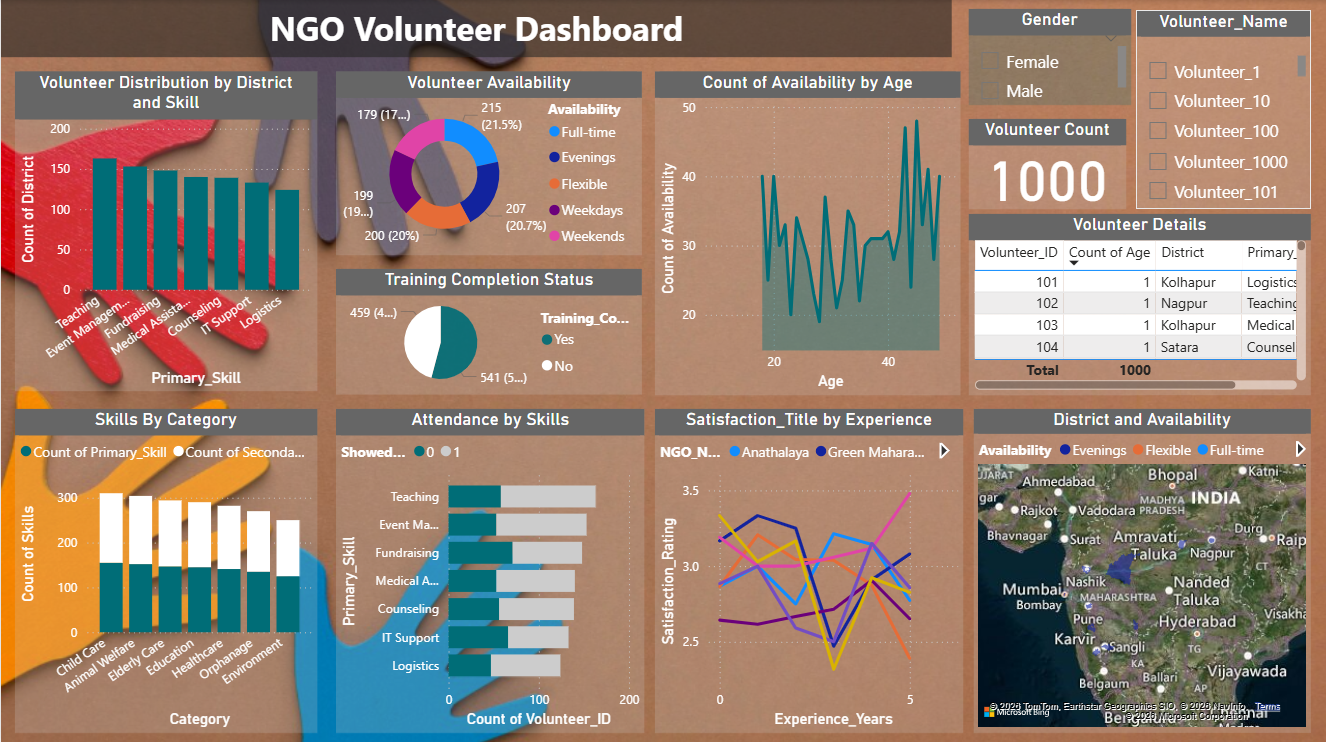

The page's visual inventory and layout, read from the dashboard file:
{"tool":"powerbi","page":{"name":"Page 1","canvas":[1280,720],"ordinal":0},"visuals":[{"type":"textbox","box":[0,0,918,55.6],"z":0},{"type":"slicer","title":"Gender","fields":{"Values":["ngodataset.Gender"]},"box":[933.8,8.4,156.8,92.9],"z":1000},{"type":"columnChart","title":"Skills By Category","fields":{"Category":["ngodataset.Category"],"Y":["CountNonNull(ngodataset.Primary_Skill)","CountNonNull(ngodataset.Secondary_Skill)"]},"box":[13.3,394.5,292,312.5],"z":2000},{"type":"areaChart","fields":{"Category":["ngodataset.Age"],"Y":["CountNonNull(ngodataset.Availability)"]},"box":[631,68.8,295.6,312.5],"z":3000},{"type":"donutChart","title":"Volunteer Availability","fields":{"Category":["ngodataset.Availability"],"Y":["CountNonNull(ngodataset.Volunteer_ID)"]},"box":[323.3,68.8,295.6,177.3],"z":4000},{"type":"columnChart","title":"Volunteer  Distribution by District and Skill","fields":{"Category":["ngodataset.Primary_Skill"],"Y":["CountNonNull(ngodataset.District)"]},"box":[13.3,68.8,292,308.8],"z":5000},{"type":"barChart","title":"Attendance by Skills","fields":{"Category":["ngodataset.Primary_Skill"],"Series":["ngodataset.Showed_Up"],"Y":["CountNonNull(ngodataset.Volunteer_ID)"]},"box":[323.3,394.5,298,312.5],"z":6000},{"type":"filledMap","fields":{"Category":["ngodataset.District"],"Series":["ngodataset.Availability"]},"box":[938.6,394.5,325.7,312.5],"z":7000},{"type":"pieChart","title":"Training  Completion Status","fields":{"Category":["ngodataset.Training_Completed"],"Y":["CountNonNull(ngodataset.Volunteer_ID)"]},"box":[323.3,259.4,295.6,121.9],"z":8000},{"type":"lineChart","title":"Satisfaction_Title by Experience","fields":{"Y":["Avg(ngodataset.Satisfaction_Rating)"],"Series":["ngodataset.NGO_Name"],"Category":["ngodataset.Experience_Years"]},"box":[631,394.5,298,312.5],"z":9000},{"type":"tableEx","title":"Volunteer Details","fields":{"Values":["ngodataset.Volunteer_ID","CountNonNull(ngodataset.Age)","ngodataset.District","ngodataset.Primary_Skill"]},"box":[933.8,206.3,330.6,174.9],"z":10000},{"type":"slicer","title":"Volunteer_Name","fields":{"Values":["ngodataset.Volunteer_Name"]},"box":[1095.4,9.7,168.9,191.8],"z":11000},{"type":"card","title":"Volunteer Count","fields":{"Values":["CountNonNull(ngodataset.Volunteer_ID)"]},"box":[933.8,114.6,152,86.9],"z":12000}]}

Visuals, with their boxes in screenshot pixels (x1, y1, x2, y2), scaled from the page's 1280x720 canvas onto the 1326x742 screenshot:
textbox: x1=0, y1=0, x2=951, y2=57
"Gender" slicer: x1=967, y1=9, x2=1130, y2=104
"Skills By Category" columnChart: x1=14, y1=407, x2=316, y2=729
areaChart - ngodataset.Age x CountNonNull(ngodataset.Availability): x1=654, y1=71, x2=960, y2=393
"Volunteer Availability" donutChart: x1=335, y1=71, x2=641, y2=254
"Volunteer  Distribution by District and Skill" columnChart: x1=14, y1=71, x2=316, y2=389
"Attendance by Skills" barChart: x1=335, y1=407, x2=644, y2=729
filledMap - ngodataset.District x ngodataset.Availability: x1=972, y1=407, x2=1310, y2=729
"Training  Completion Status" pieChart: x1=335, y1=267, x2=641, y2=393
"Satisfaction_Title by Experience" lineChart: x1=654, y1=407, x2=962, y2=729
"Volunteer Details" tableEx: x1=967, y1=213, x2=1310, y2=393
"Volunteer_Name" slicer: x1=1135, y1=10, x2=1310, y2=208
"Volunteer Count" card: x1=967, y1=118, x2=1125, y2=208
